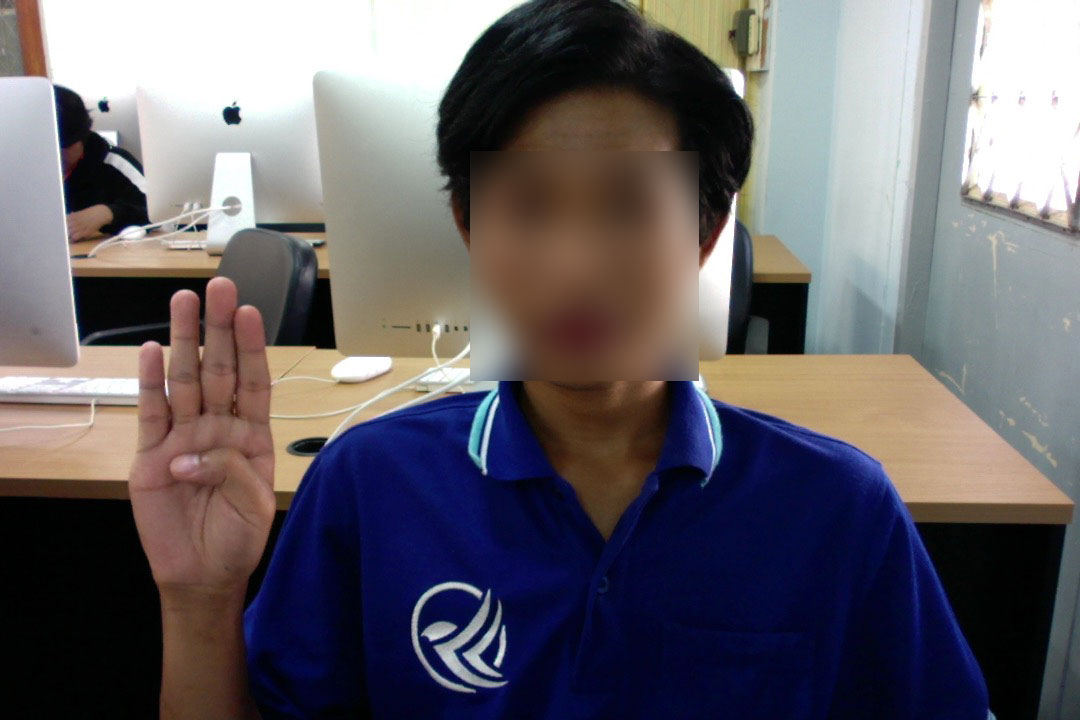bor: (121, 271, 282, 606)
